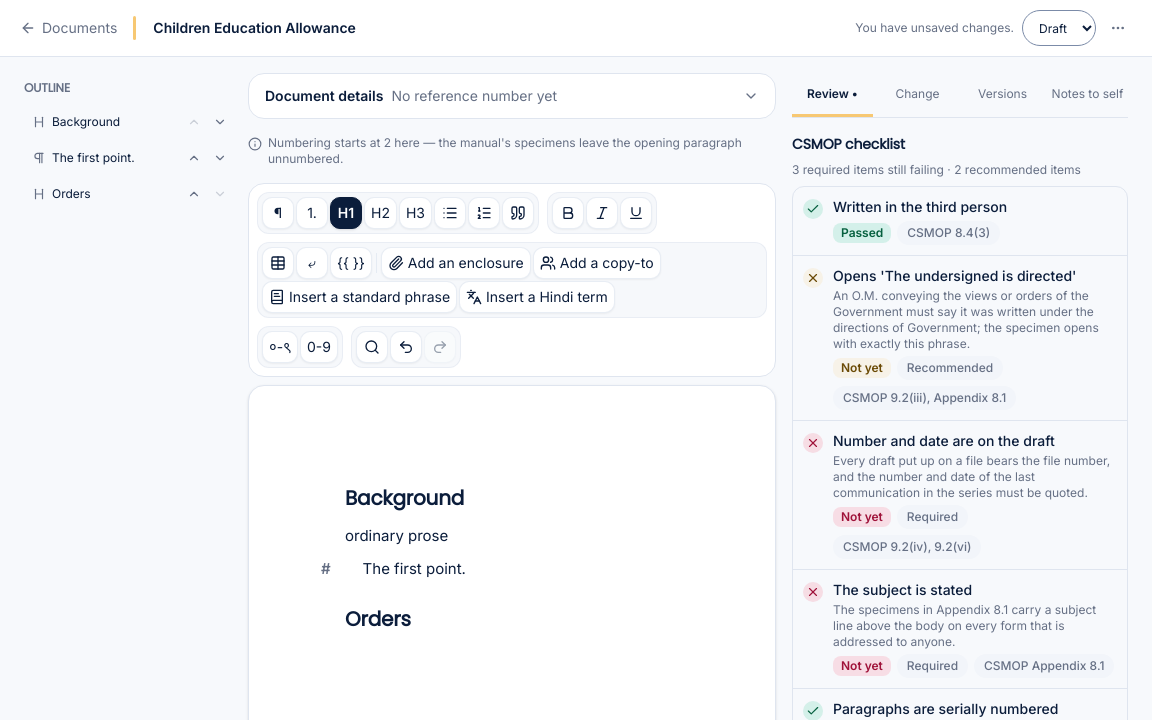
Test: controls that could not do what they offered › opens “Save as my template” with the document’s own name in the box
expect the field named "Document body" is shown: met, box top-left (345, 484), bottom-right (466, 633)
Click the button named "More actions" at [1118, 28], box top-left (1100, 10), bottom-right (1136, 46)
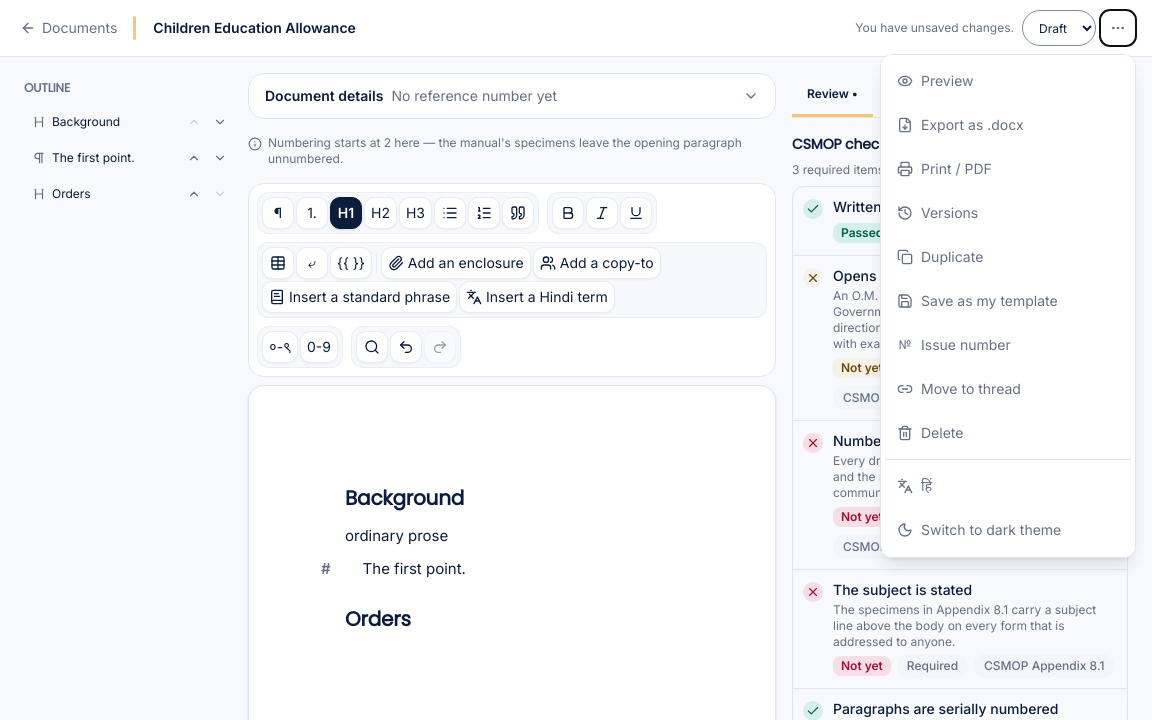
Click the button "Save as my template" at [1008, 301], box top-left (885, 279), bottom-right (1131, 323)
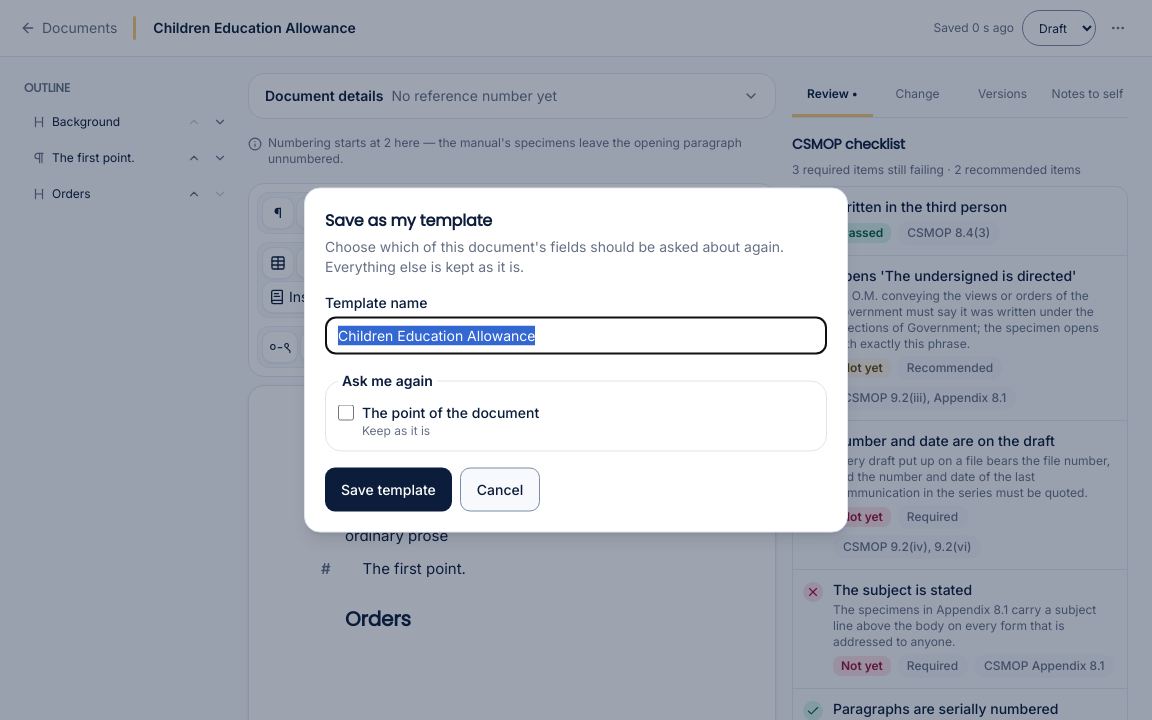
expect the field labelled "Template name" holds "Children Education Allowance": met, box top-left (325, 316), bottom-right (827, 354)
